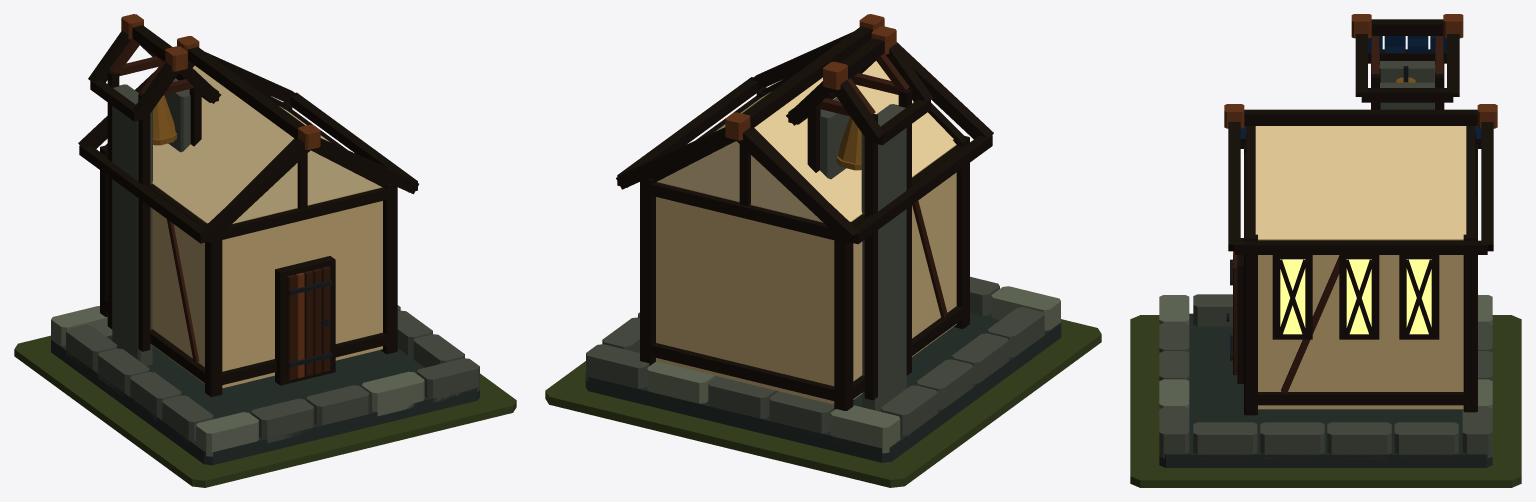
File: chapel_t1.glb
3 views of the same model, side by side, from view 1: azimuth 30°, elevation 25°; view 2: azimuth 150°, elevation 25°; view 3: azimuth 270°, elevation 25° (orthographic). The views are drawn at different scales.
Visible parts, largest first — view 1: MMR | chapel | T01 Architecture.001, MMR | chapel | Tier 01 Ground.001; view 2: MMR | chapel | T01 Architecture.001, MMR | chapel | Tier 01 Ground.001; view 3: MMR | chapel | T01 Architecture.001, MMR | chapel | Tier 01 Ground.001.
Boxes of the visible parts, x1,y1,x2,y2 form: MMR | chapel | T01 Architecture.001: (51, 14, 479, 465); MMR | chapel | Tier 01 Ground.001: (14, 335, 516, 487); MMR | chapel | T01 Architecture.001: (585, 14, 1061, 462); MMR | chapel | Tier 01 Ground.001: (545, 319, 1101, 487); MMR | chapel | T01 Architecture.001: (1159, 14, 1497, 467); MMR | chapel | Tier 01 Ground.001: (1130, 315, 1521, 487).
Bounding box in the file's own units: 2.35 × 2.33 × 2.35.
Materials: 2 (1 with a texture image).
